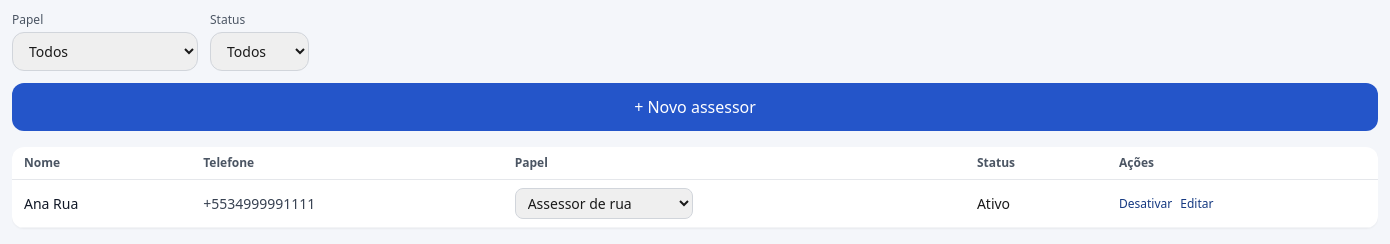
ListaAssessores — assessor de rua › lista e permite desativar
Check: the text "Ana Rua" is shown, box [12,180,191,228]
Click the button with aria-label "Desativar Ana Rua" at coordinates (1146, 204), box [1119,196,1172,212]
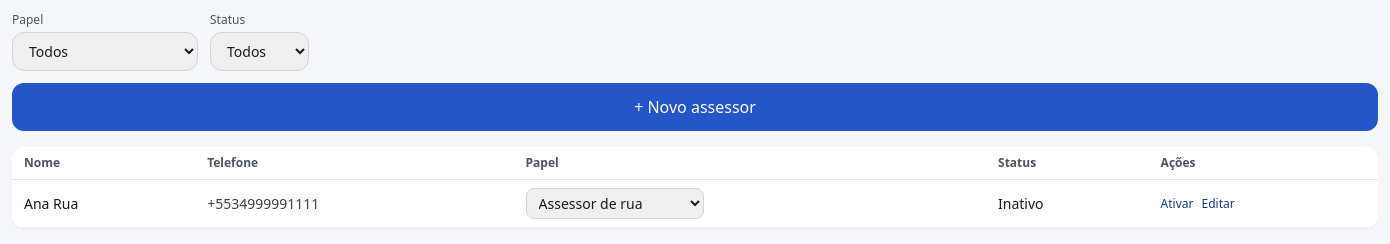
Check: the text "Inativo" is shown, box [986,180,1149,228]
